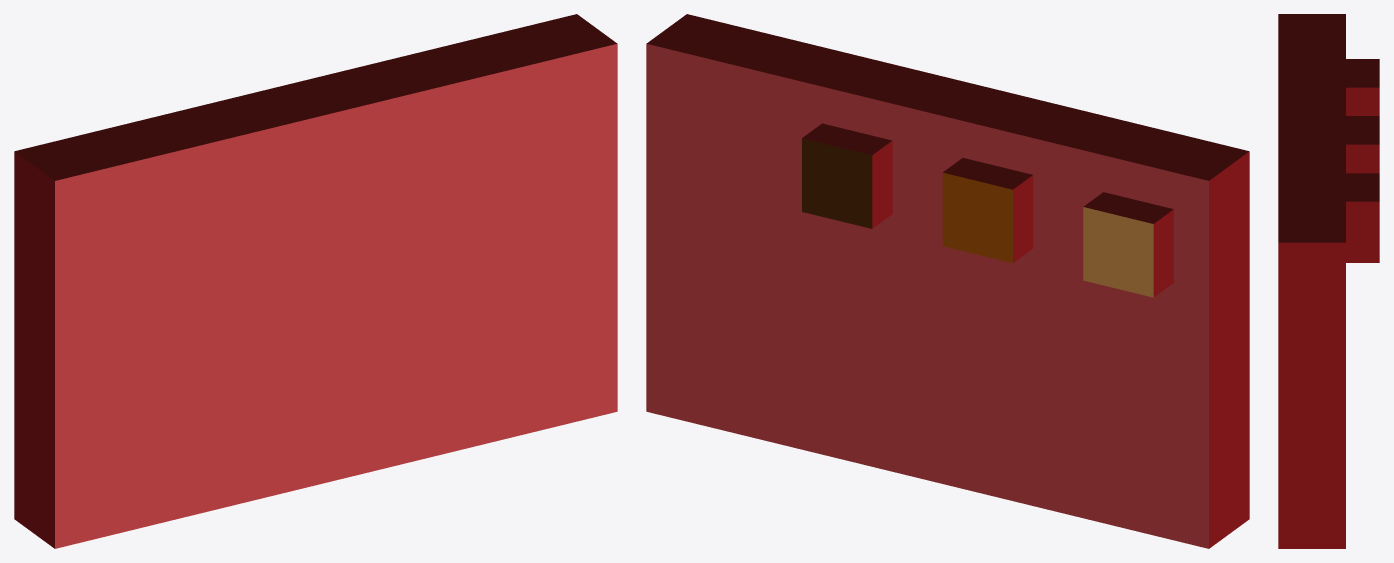
3 views of the same model, side by side, from view 1: azimuth 30°, elevation 25°; view 2: azimuth 150°, elevation 25°; view 3: azimuth 270°, elevation 25° (orthographic). The views are drawn at different scales.
Visible parts, largest first — view 1: ss3d_44_cyberaccess; view 2: ss3d_44_cyberaccess; view 3: ss3d_44_cyberaccess.
Boxes of the visible parts, left/top/right/bottom form: ss3d_44_cyberaccess: left=14, top=14, right=617, bottom=548; ss3d_44_cyberaccess: left=646, top=14, right=1249, bottom=548; ss3d_44_cyberaccess: left=1278, top=14, right=1379, bottom=548.
Bounding box in the file's own units: 0.5625 × 0.3516 × 0.1055.
Materials: 1 (1 with a texture image).
